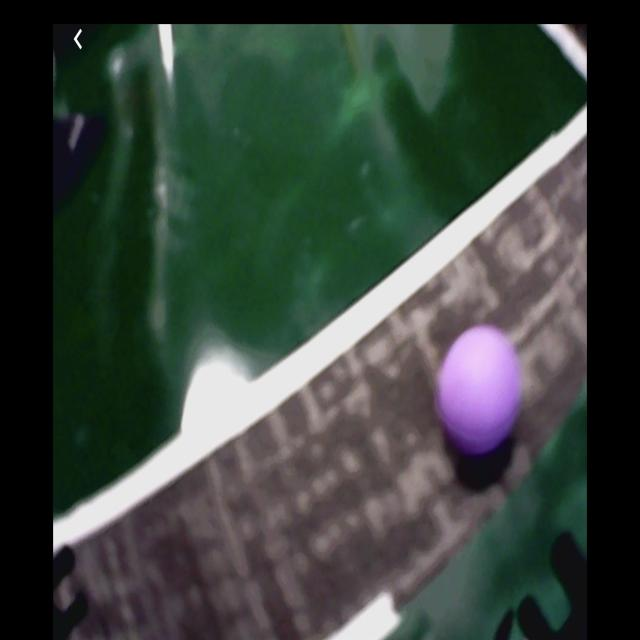ball: (438, 327, 517, 452)
